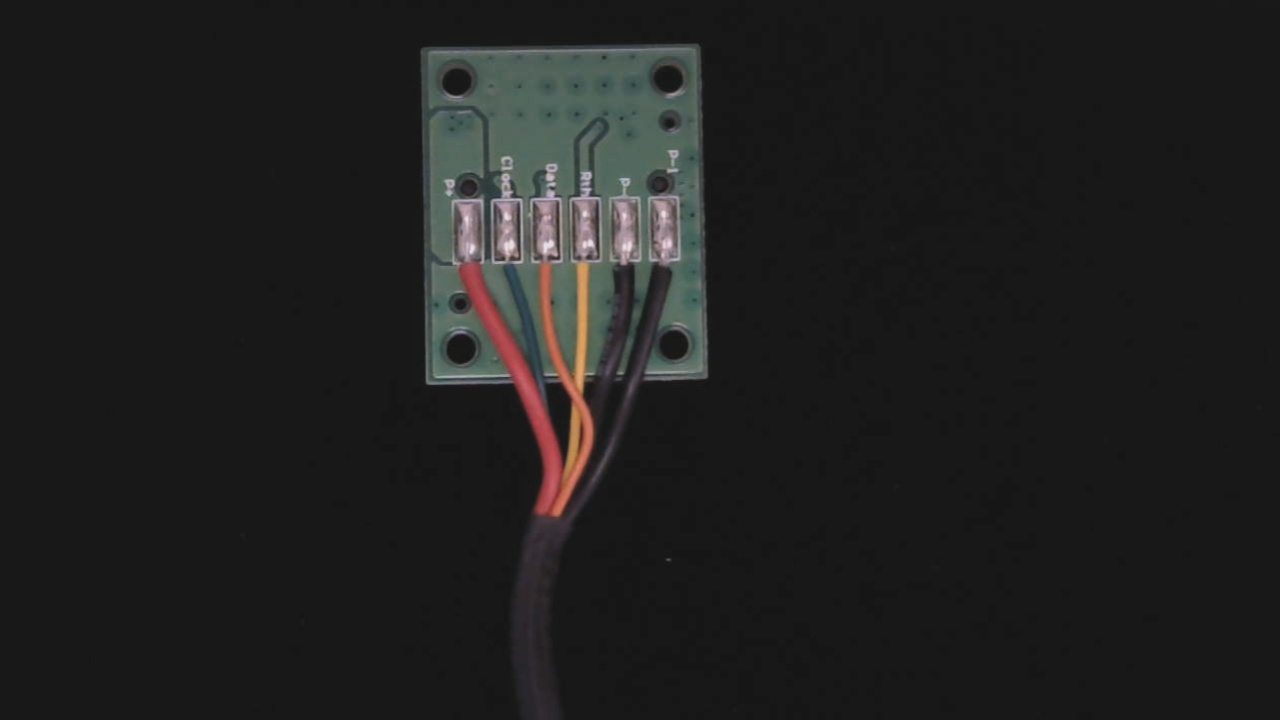Black: (610, 245, 640, 309)
Black1: (651, 246, 679, 310)
Green: (492, 241, 524, 307)
Orange: (533, 245, 562, 310)
Red: (454, 243, 483, 307)
Yellow: (573, 244, 599, 313)
